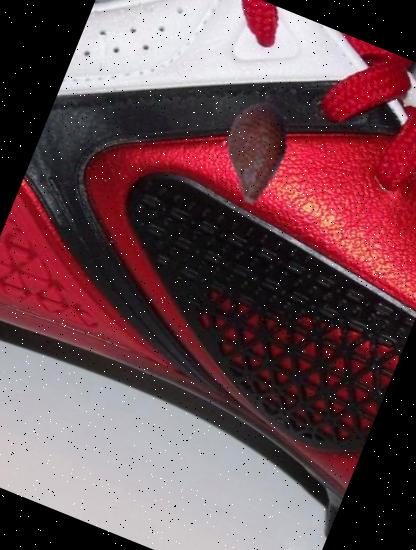Salak: (182, 76, 328, 222)
